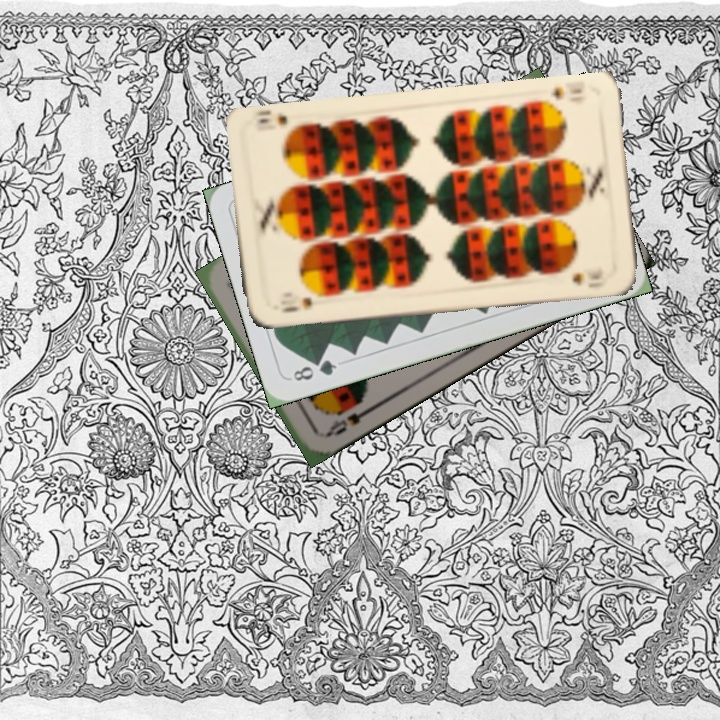G8: (289, 355, 340, 384)
S10: (547, 79, 585, 103), (278, 293, 314, 315)
SO: (322, 403, 374, 440)
